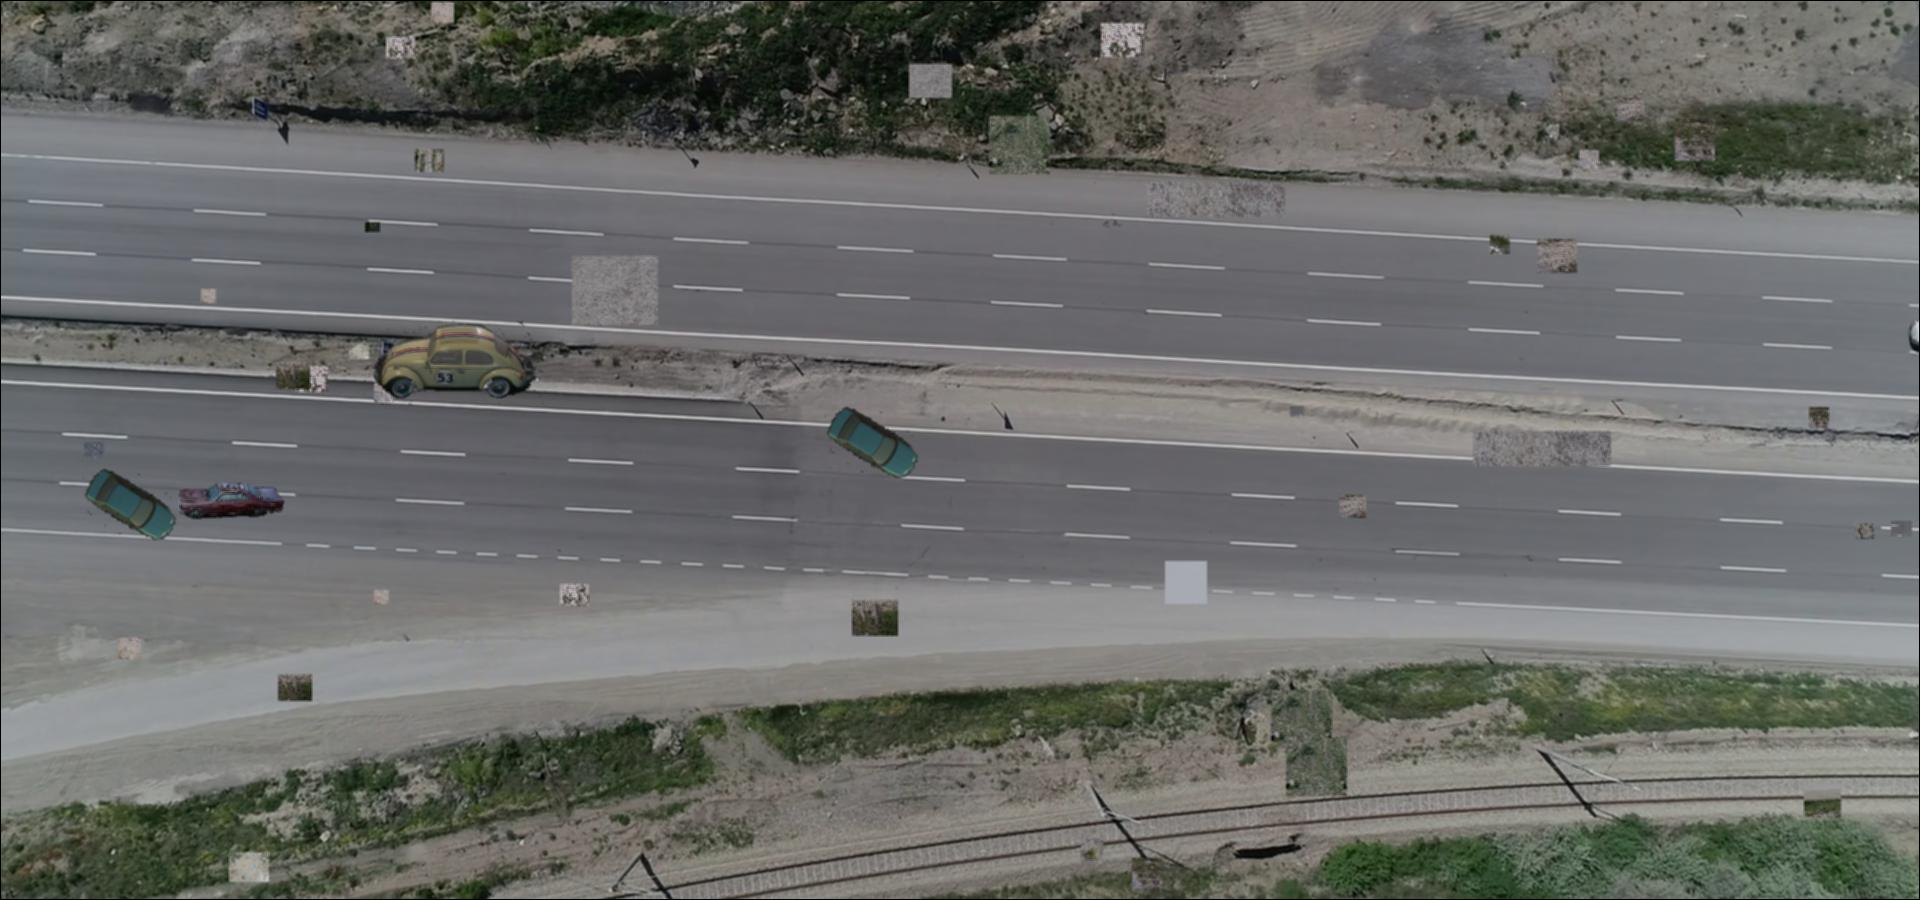arac: (364, 321, 542, 405), (83, 467, 176, 540), (825, 405, 918, 478), (176, 482, 287, 520)
